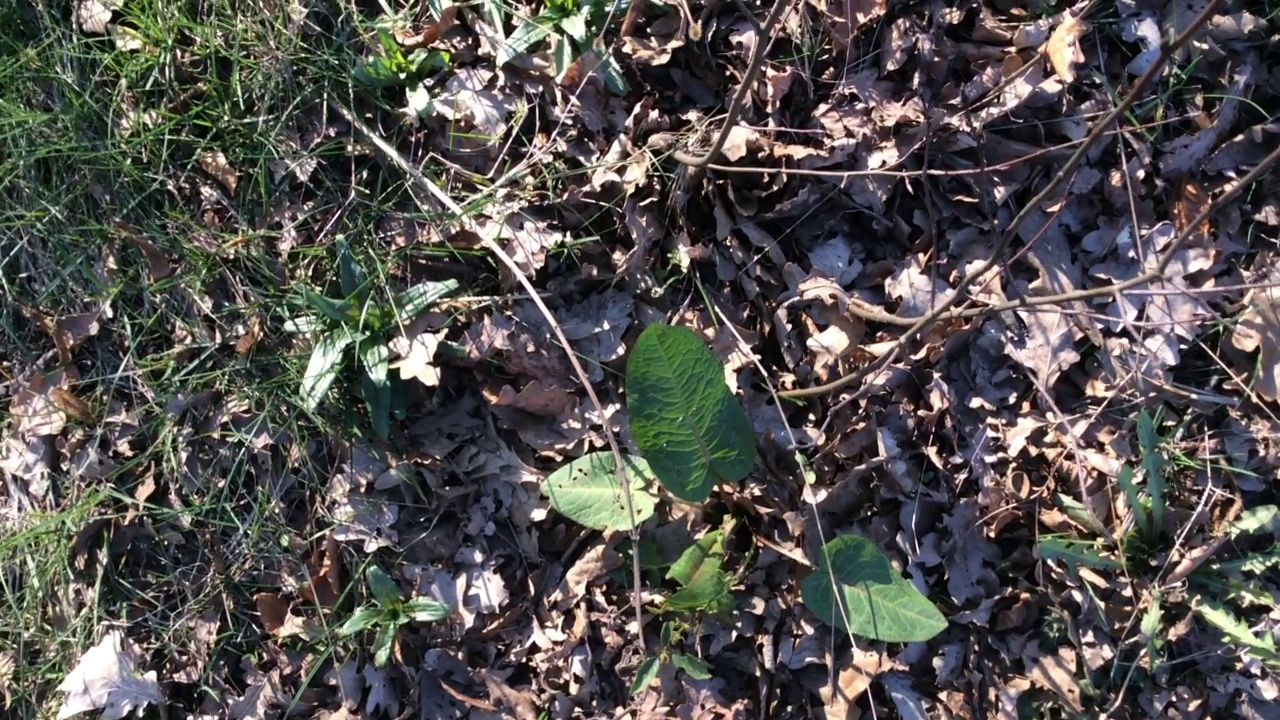rumex: (542, 324, 948, 692)
